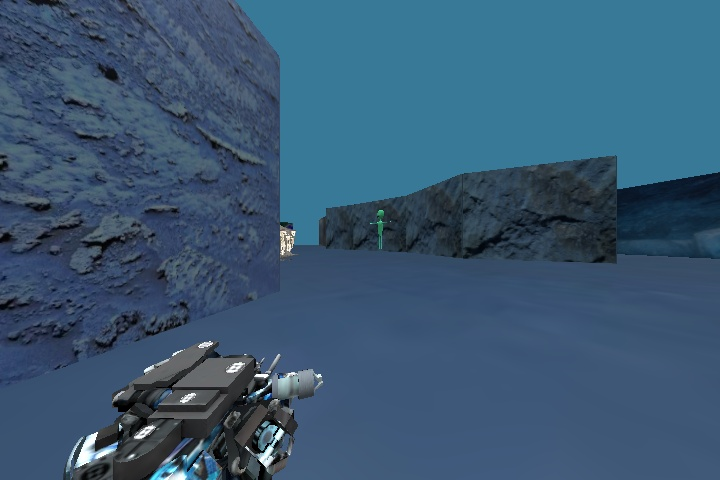formation: (275, 216, 297, 260)
green_alien: (367, 206, 392, 249)
